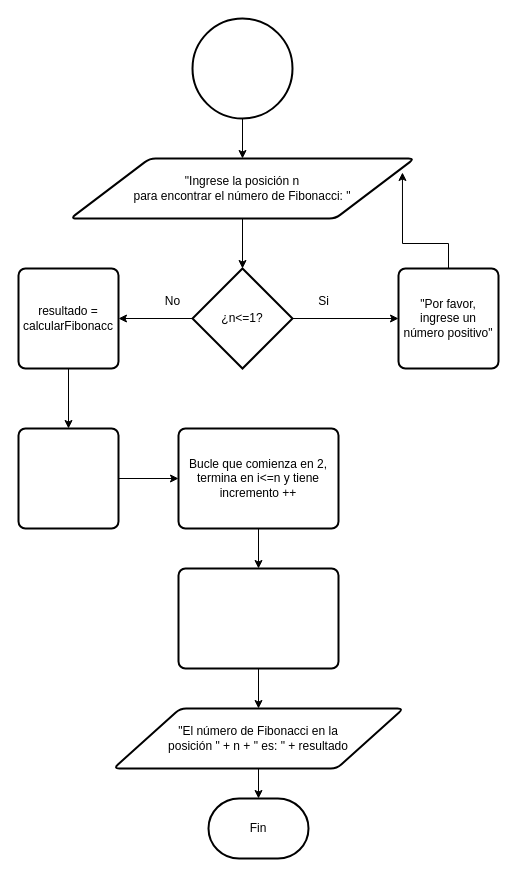
This 516x876 diagram has some shape labels left out. Each missing label, with the box of its shape:
fib1 = 0 fib2 = 1 fibActual = 0: (17, 427, 119, 529)
Inicio: (191, 17, 293, 119)
Retorna a fibActual que contiene el número de Fibonacci en la posición n: (177, 567, 339, 669)
